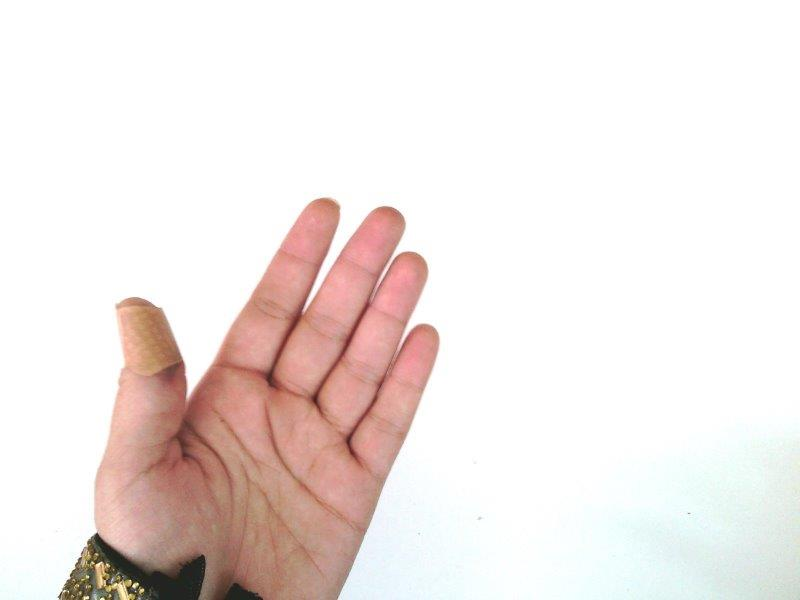hand: (95, 198, 440, 597)
